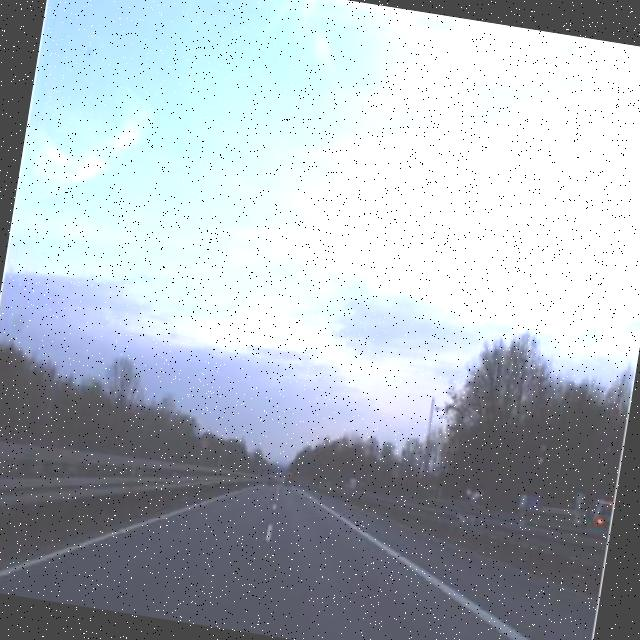Ograniczenie predkosci do 120: (196, 428, 214, 453)
